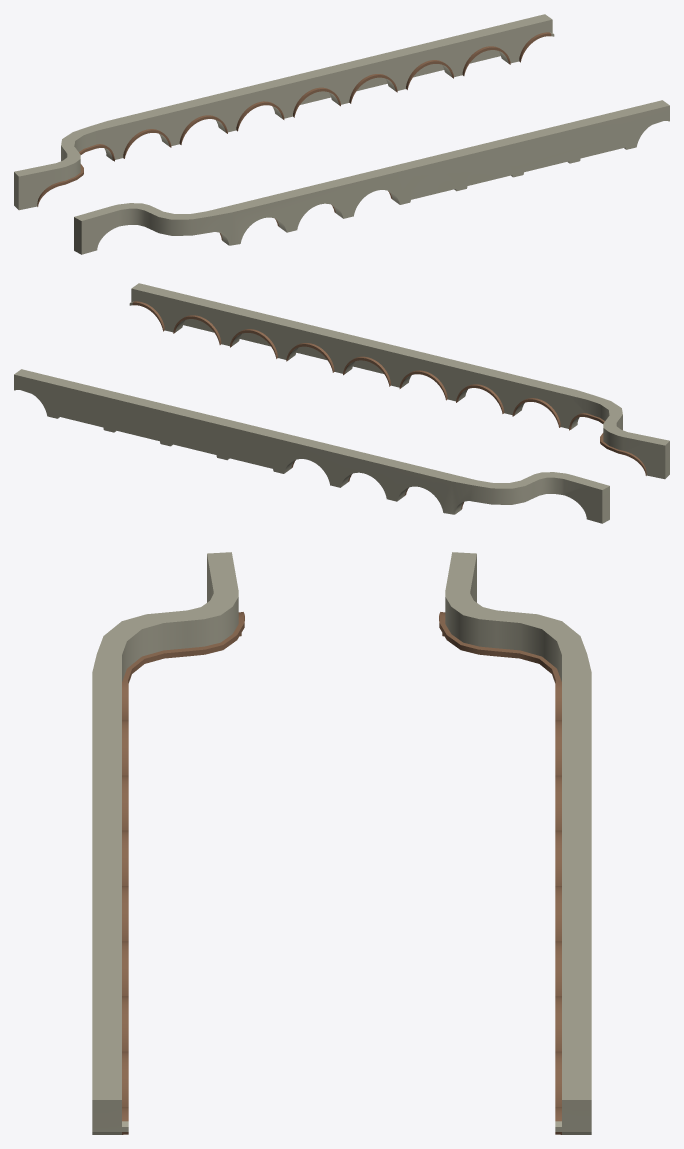
The model's file is thing2.fbx.
3 renders of one model, top to bottom at view 1: azimuth 30°, elevation 25°; view 2: azimuth 150°, elevation 25°; view 3: azimuth 270°, elevation 25°, orthographic. The views are drawn at different scales.
Visible parts, largest first — view 1: Cube.041; view 2: Cube.041; view 3: Cube.041.
Boxes of the visible parts, box(x1,y1,x2,y2) form: Cube.041: box(14, 14, 669, 254); Cube.041: box(14, 283, 669, 523); Cube.041: box(92, 552, 591, 1134).
Size of the model in its own units: 24111 by 1384 by 9293.
